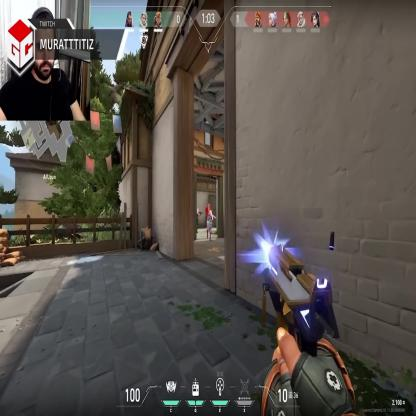enemy: (206, 204, 216, 240), (196, 207, 203, 235)
enemy_head: (208, 204, 210, 212), (196, 207, 199, 212)
